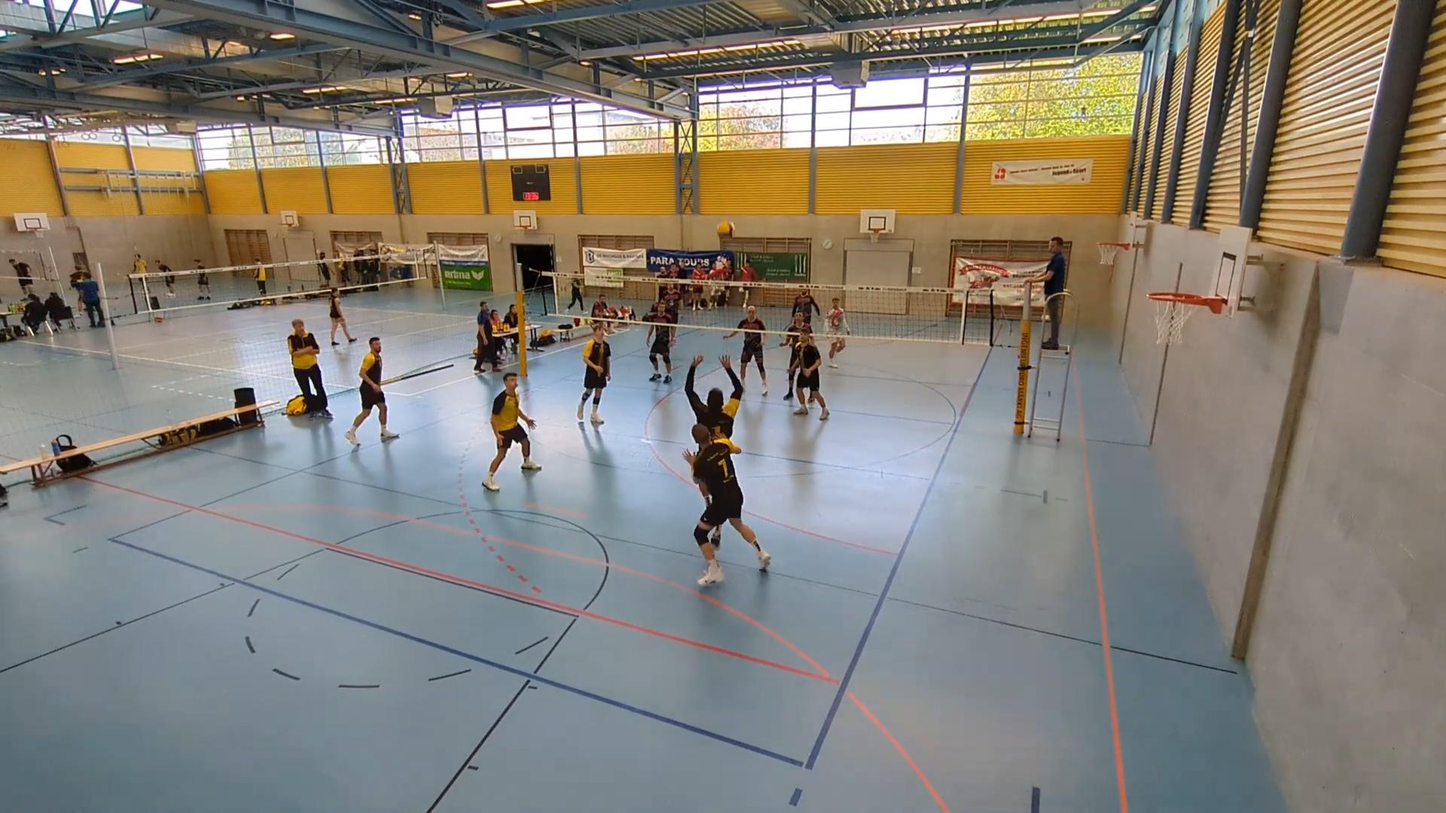difesa: (684, 349, 746, 442)
